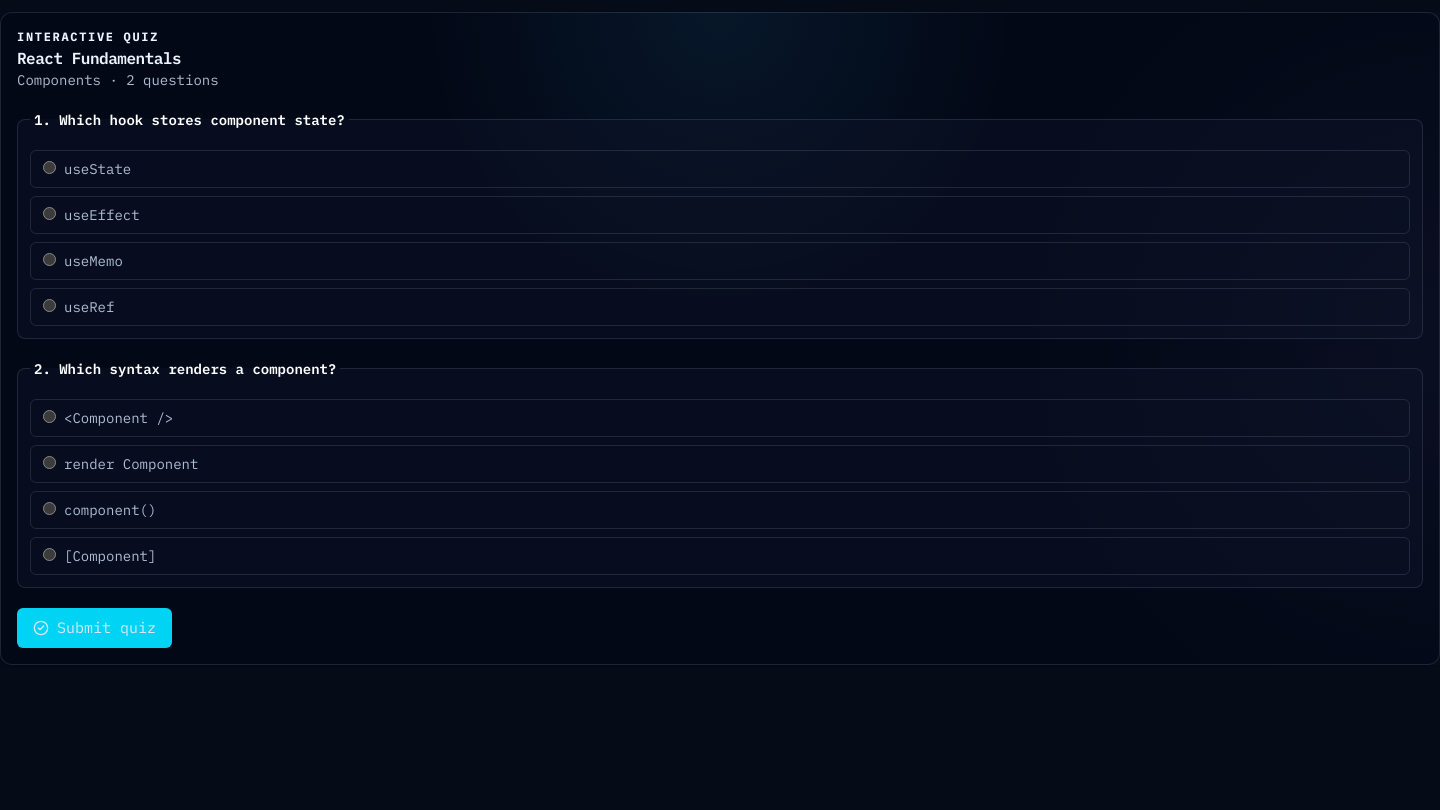
StudyQuizToolCard › scores a completed quiz deterministically
This screenshot has width=1440, height=810.
Click the radio button labelled "useState" at (50, 167), box x1=43 y1=161 x2=56 y2=174
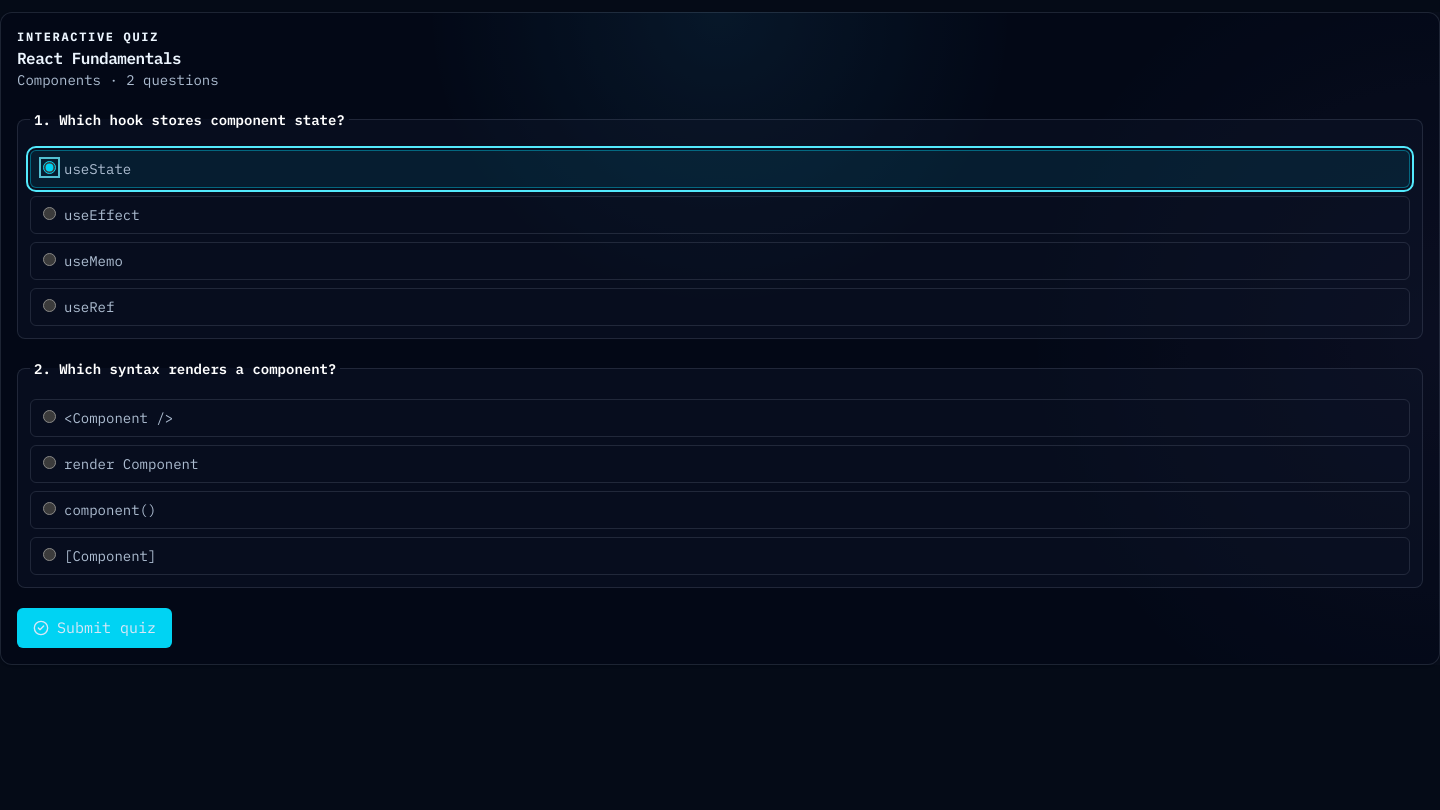
Click the radio button labelled "render Component" at (50, 462), box x1=43 y1=456 x2=56 y2=469
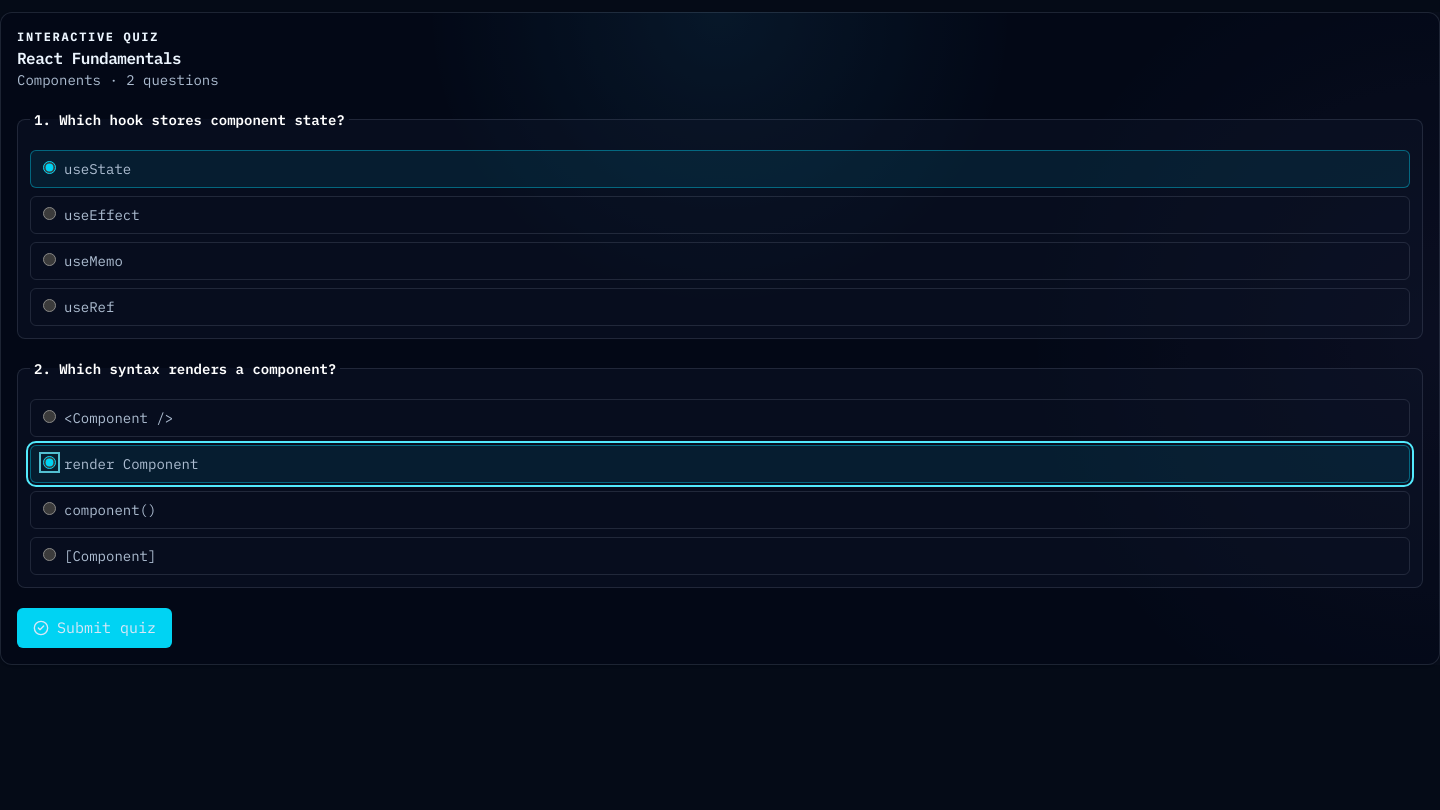
Click the button "Submit quiz" at (94, 628), box x1=17 y1=608 x2=172 y2=648
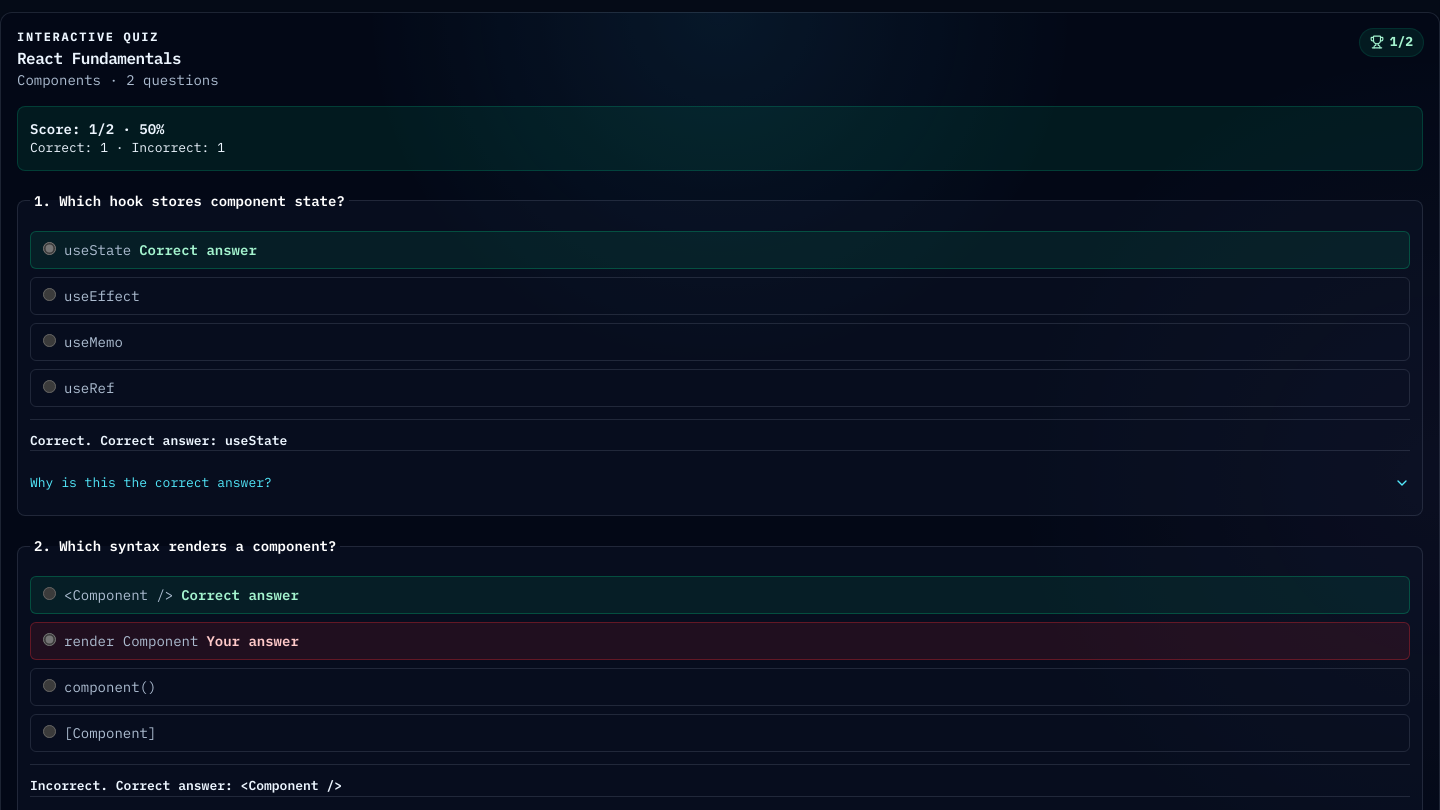
Check: the message shows "Score: 1/2 · 50%", box x1=17 y1=106 x2=1423 y2=171
Check: the message shows "Correct: 1 · Incorrect: 1", box x1=17 y1=106 x2=1423 y2=171
Check: the text "Incorrect. Correct answer: <Component />" is shown, box x1=30 y1=778 x2=342 y2=794
